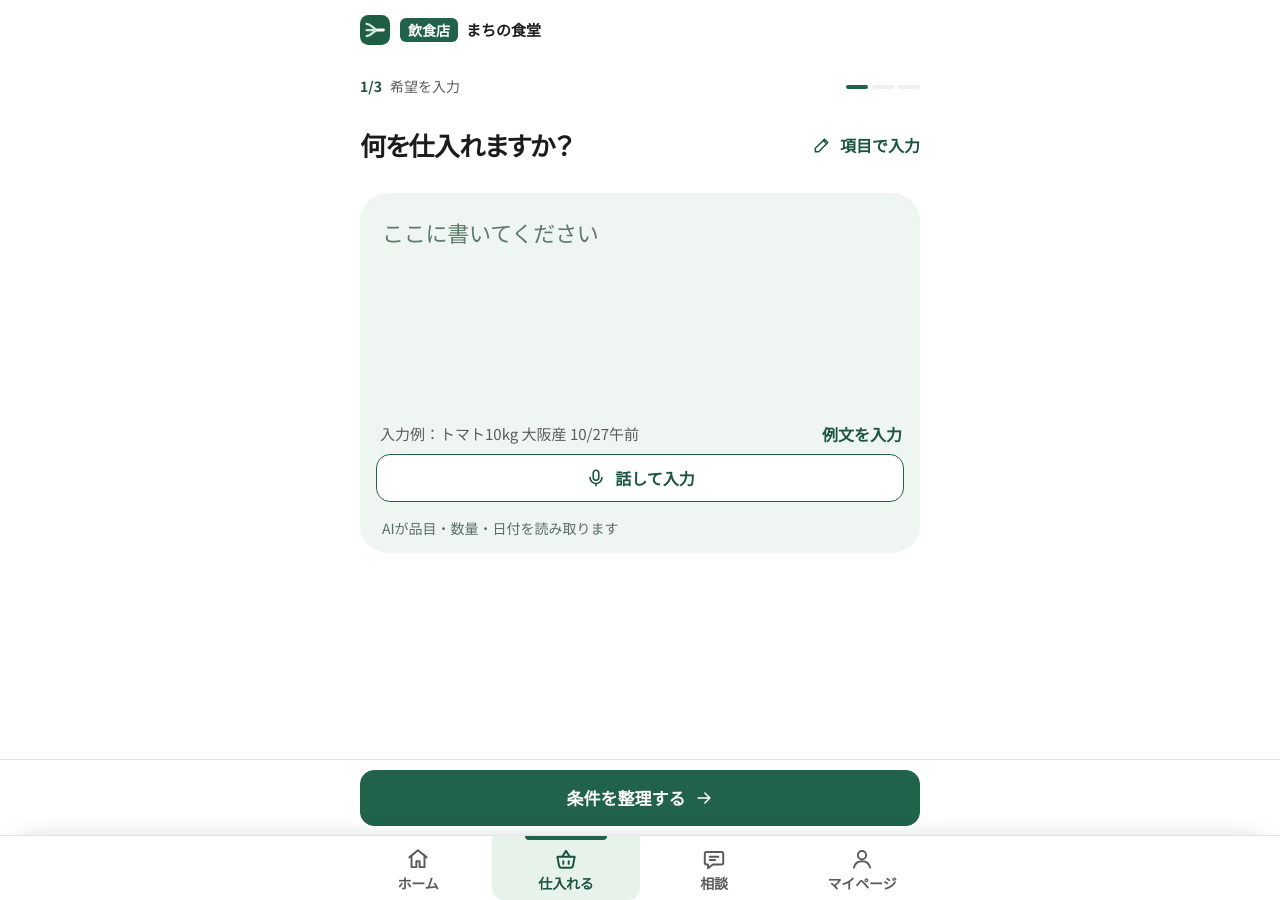
Test: STEP 1（一般向けの環境）：入力例は1つだけ。一覧・✓の表示は出さない › 「入力例：トマト10kg 大阪産 10/27午前」と「例文を入力」（押すと例文がそのまま入る）。食材の一覧はない
Click the button "例文を入力" at (862, 434), box [810,414,914,454]
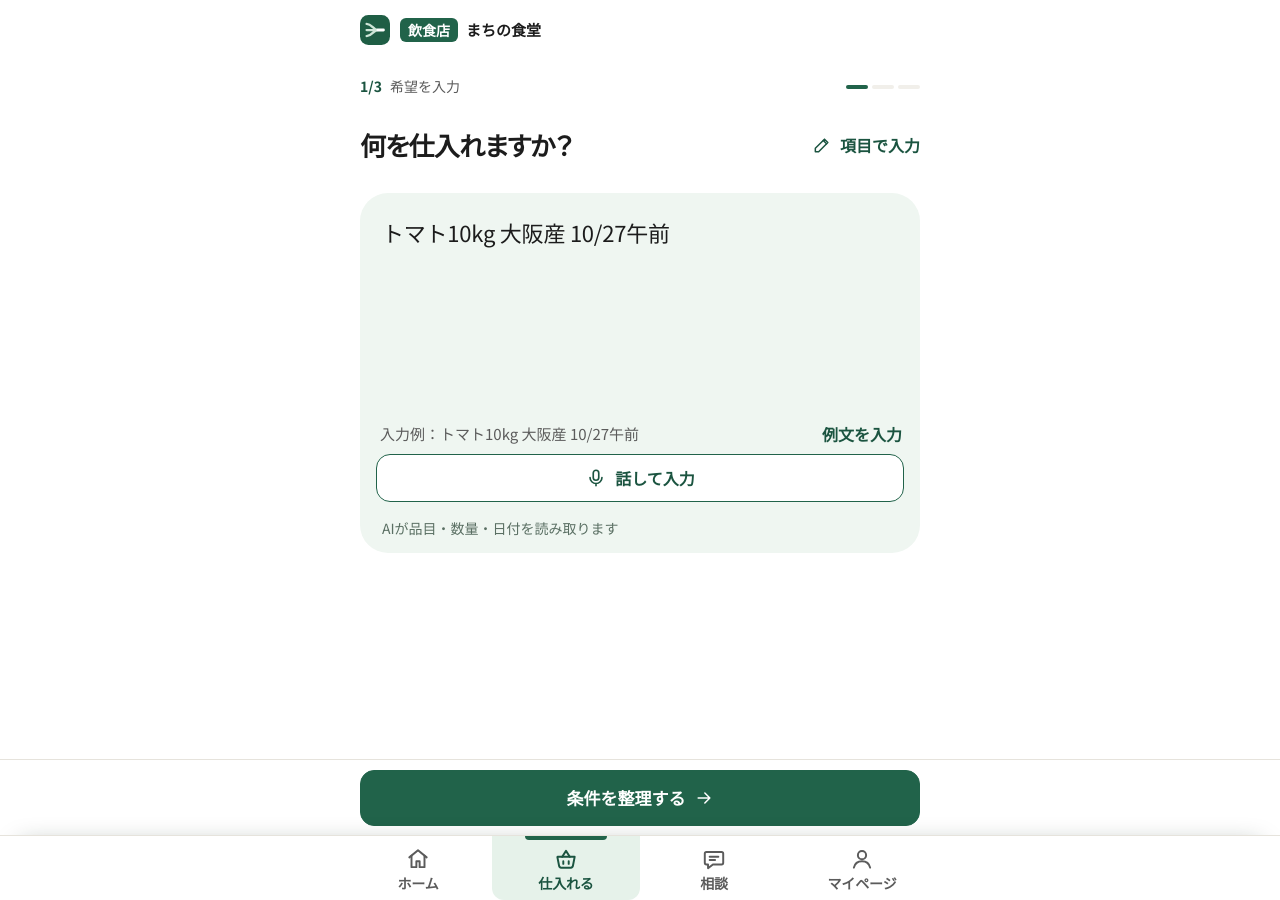
Now the text box holds "トマト10kg 大阪産 10/27午前", box [360,193,920,409]
